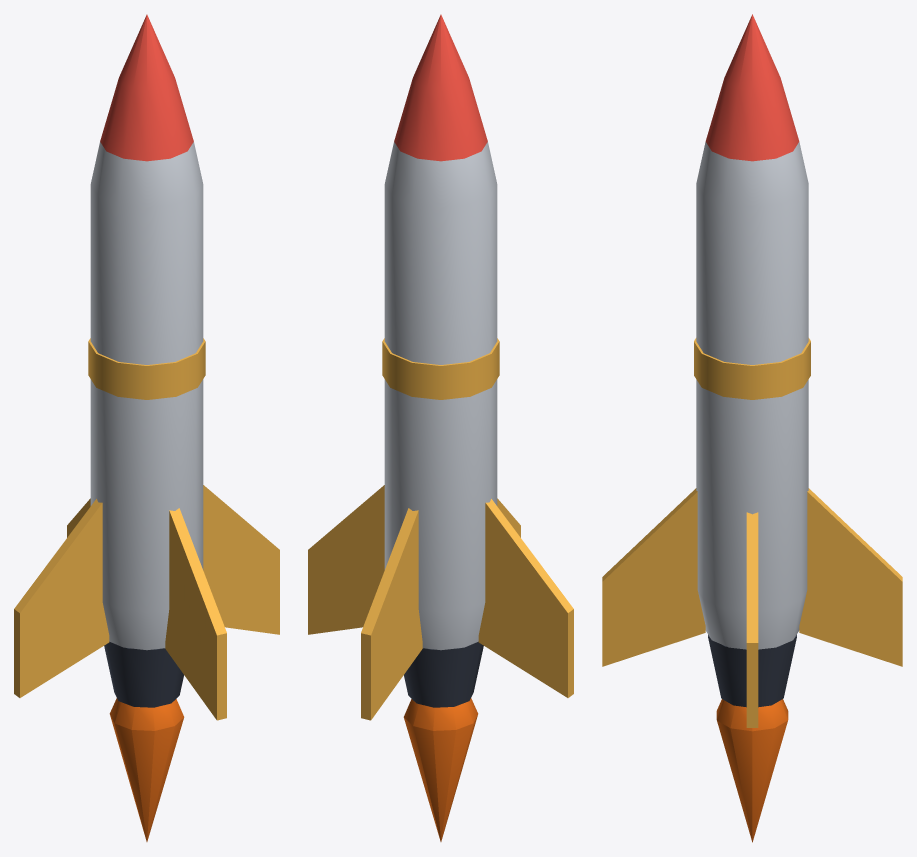
File: abwehrrakete.obj
The picture shows the model from 3 angles, left to right: view 1: azimuth 30°, elevation 25°; view 2: azimuth 150°, elevation 25°; view 3: azimuth 270°, elevation 25°; orthographic projection.
Visible parts, largest first — view 1: abwehrrakete_Koerper; view 2: abwehrrakete_Koerper; view 3: abwehrrakete_Koerper.
Part boxes in pixels (left/top/right/bottom): abwehrrakete_Koerper: left=14, top=14, right=279, bottom=841; abwehrrakete_Koerper: left=308, top=14, right=573, bottom=841; abwehrrakete_Koerper: left=602, top=14, right=902, bottom=842.
Bounding box in the file's own units: 0.64 × 1.95 × 0.64.
